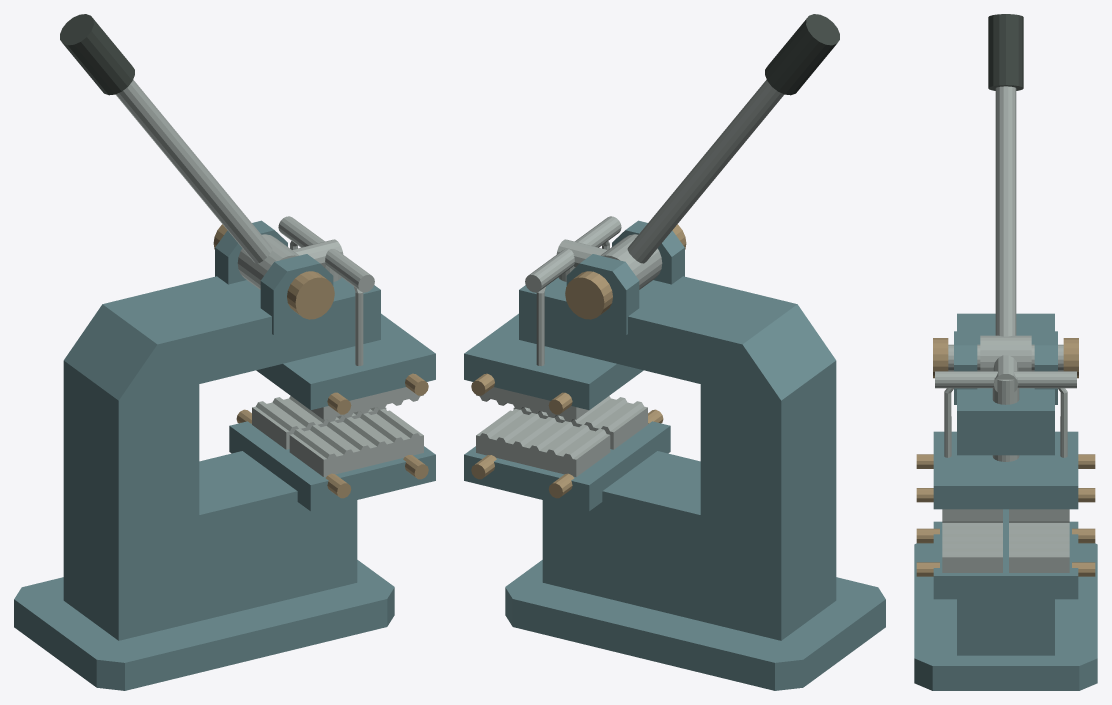
3 renders of one model, left to right at view 1: azimuth 30°, elevation 25°; view 2: azimuth 150°, elevation 25°; view 3: azimuth 270°, elevation 25°, orthographic. The views are drawn at different scales.
Visible parts, largest first — view 1: WholeLowOpenThroatCasting, WholeChamferedMountingSole, WholeUpperSplitJawCarrier, WholeLowerSplitJawCarrier, WholeLowerSerratedJawHalf-1, WholeLongRisingHandLever, WholeLongLeverEndGrip, WholeTopFulcrumEar-1, WholeLowerSerratedJawHalf1, WholeActuatingTransverseBar, WholeProudFulcrumCap-1, WholeTopFulcrumEar1 (+3 smaller); view 2: WholeLowOpenThroatCasting, WholeChamferedMountingSole, WholeUpperSplitJawCarrier, WholeLowerSplitJawCarrier, WholeLowerSerratedJawHalf1, WholeLongRisingHandLever, WholeLongLeverEndGrip, WholeTopFulcrumEar1, WholeLowerSerratedJawHalf-1, WholeActuatingTransverseBar, WholeProudFulcrumCap1, WholeTopFulcrumEar-1 (+3 smaller); view 3: WholeLowOpenThroatCasting, WholeChamferedMountingSole, WholeUpperSplitJawCarrier, WholeLongRisingHandLever, WholeLowerSplitJawCarrier, WholeLowerSerratedJawHalf-1, WholeLowerSerratedJawHalf1, WholeLongLeverEndGrip, WholeActuatingTransverseBar, WholeLeverFulcrumHub, WholeContinuousUpperJawWireBail, WholeTopFulcrumEar-1 (+12 smaller).
Boxes of the visible parts, box(x1,y1,x2,y2) form: WholeLowOpenThroatCasting: box(63, 276, 380, 640); WholeChamferedMountingSole: box(14, 560, 394, 690); WholeUpperSplitJawCarrier: box(256, 313, 435, 410); WholeLowerSplitJawCarrier: box(229, 421, 435, 511); WholeLowerSerratedJawHalf-1: box(289, 409, 423, 476); WholeLongRisingHandLever: box(115, 79, 272, 263); WholeLongLeverEndGrip: box(60, 14, 134, 95); WholeTopFulcrumEar-1: box(260, 254, 333, 334); WholeLowerSerratedJawHalf1: box(252, 396, 386, 449); WholeActuatingTransverseBar: box(278, 216, 374, 292); WholeProudFulcrumCap-1: box(287, 271, 334, 319); WholeTopFulcrumEar1: box(215, 220, 287, 284); WholeLowOpenThroatCasting: box(519, 276, 836, 640); WholeChamferedMountingSole: box(505, 560, 885, 690); WholeUpperSplitJawCarrier: box(464, 313, 643, 410); WholeLowerSplitJawCarrier: box(464, 421, 670, 511); WholeLowerSerratedJawHalf1: box(476, 409, 610, 476); WholeLongRisingHandLever: box(627, 79, 784, 263); WholeLongLeverEndGrip: box(765, 14, 839, 95); WholeTopFulcrumEar1: box(566, 254, 639, 334); WholeLowerSerratedJawHalf-1: box(513, 396, 647, 449); WholeActuatingTransverseBar: box(525, 216, 621, 292); WholeProudFulcrumCap1: box(565, 271, 612, 319); WholeTopFulcrumEar-1: box(612, 220, 684, 284); WholeLowOpenThroatCasting: box(957, 313, 1054, 655); WholeChamferedMountingSole: box(914, 543, 1097, 690); WholeUpperSplitJawCarrier: box(933, 431, 1078, 509); WholeLongRisingHandLever: box(995, 86, 1016, 336); WholeLowerSplitJawCarrier: box(933, 521, 1078, 599); WholeLowerSerratedJawHalf-1: box(942, 522, 1002, 572); WholeLowerSerratedJawHalf1: box(1009, 522, 1069, 572); WholeLongLeverEndGrip: box(988, 14, 1023, 90); WholeActuatingTransverseBar: box(935, 371, 1076, 388); WholeLeverFulcrumHub: box(980, 335, 1031, 371); WholeContinuousUpperJawWireBail: box(944, 388, 1067, 457); WholeTopFulcrumEar-1: box(954, 331, 977, 404).
Bounding box in the file's own units: 0.57 × 1.01 × 0.3.
